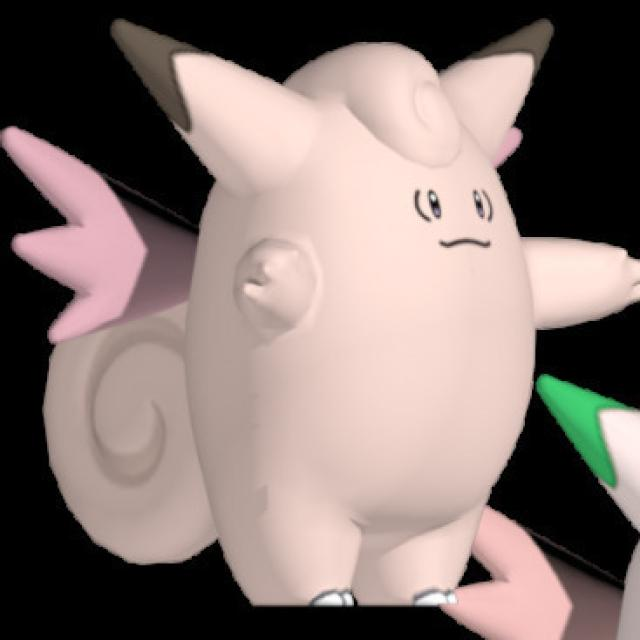Clefable: (189, 20, 547, 610)
